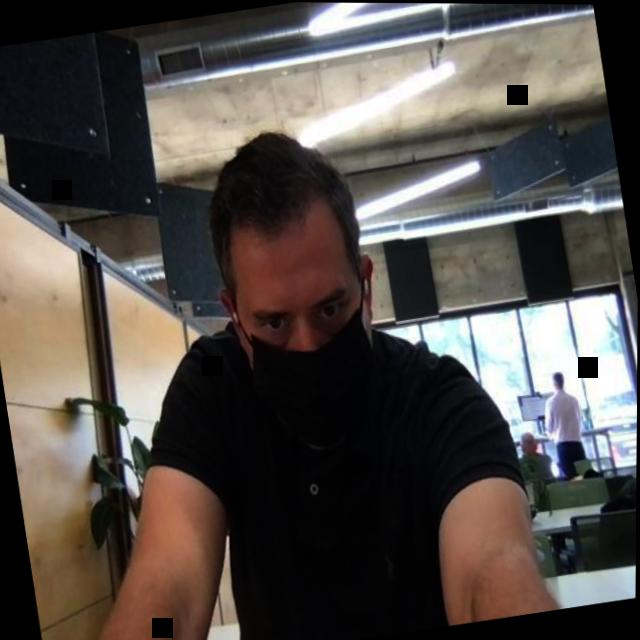Mask: (194, 118, 402, 467)
